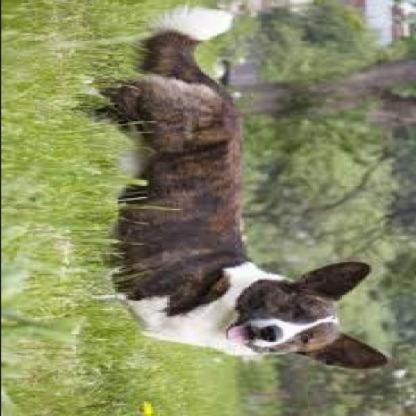dog: (81, 25, 392, 370)
